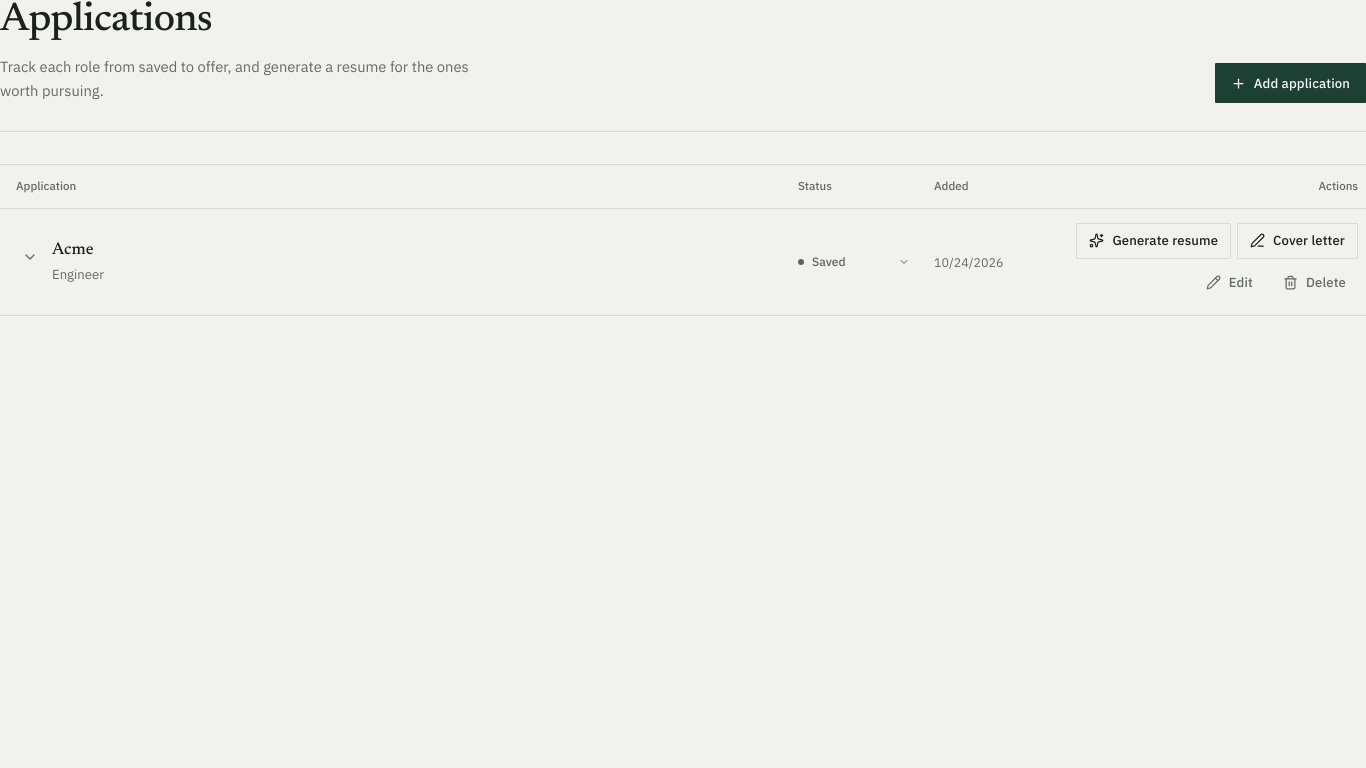
Scenario: ApplicationsPage › removes the description when its application is deleted
Expected: the heading "Applications" is shown, 0,1 -> 212,41
Step 1. Click the button named "View description for Engineer at Acme" → [30, 257], box 12,239 -> 48,275
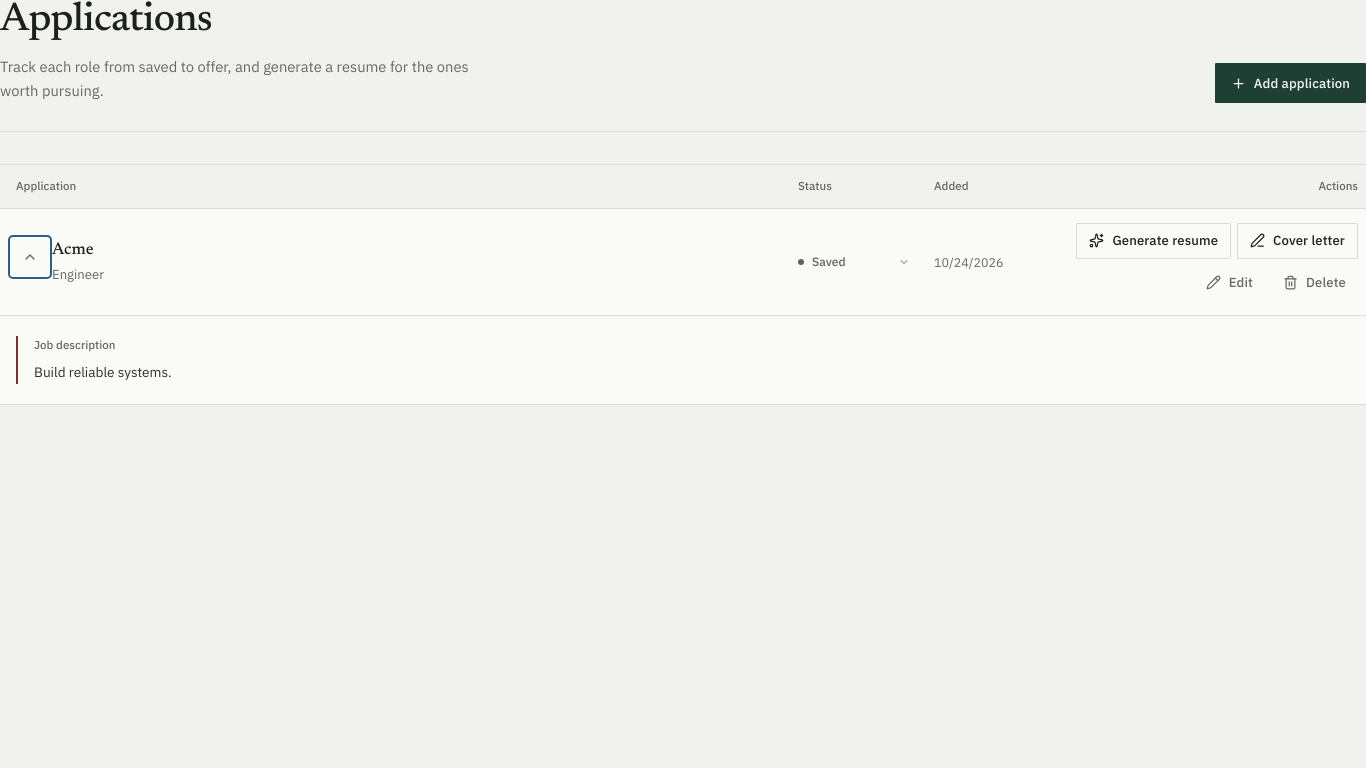
Step 2. Click the button with aria-label "Delete Engineer at Acme" → [1314, 283], box 1271,265 -> 1358,301
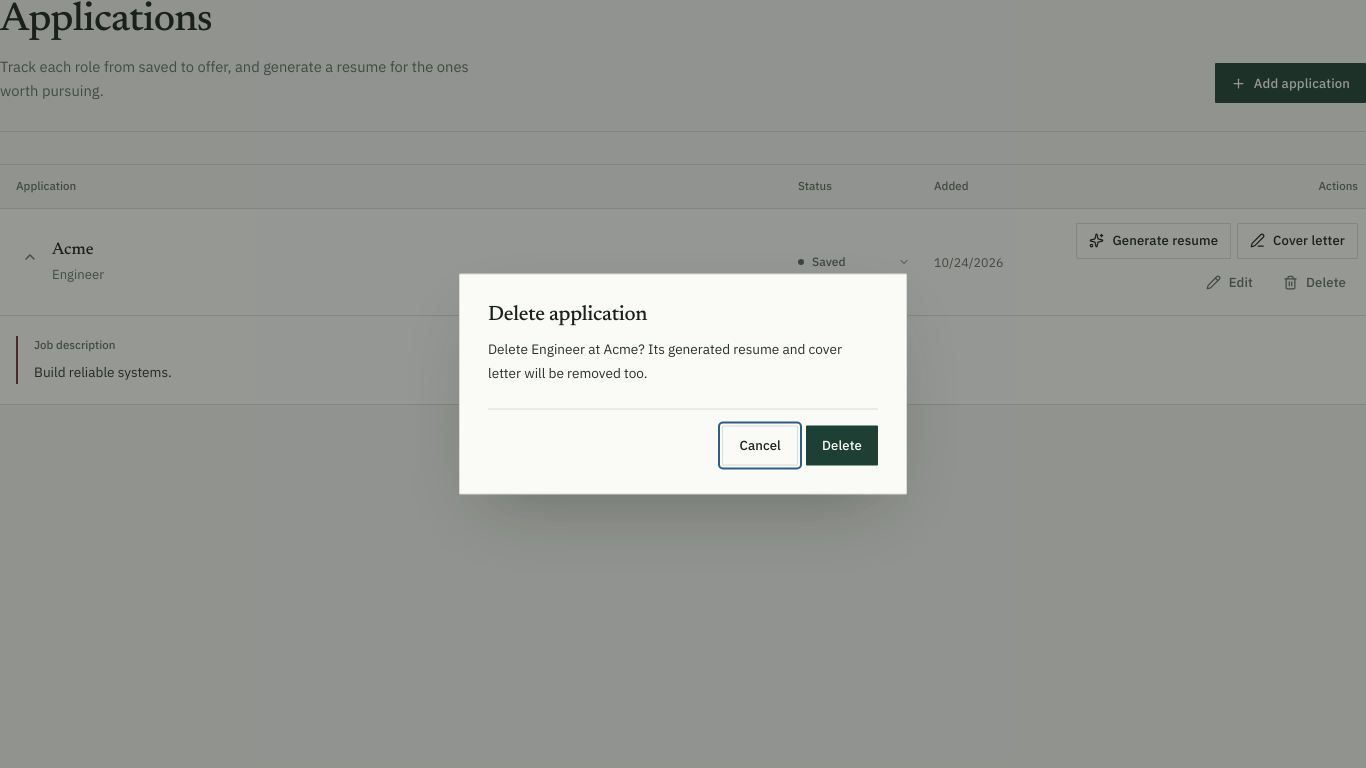
Step 3. Click the button "Delete" → [842, 446], box 806,426 -> 878,466
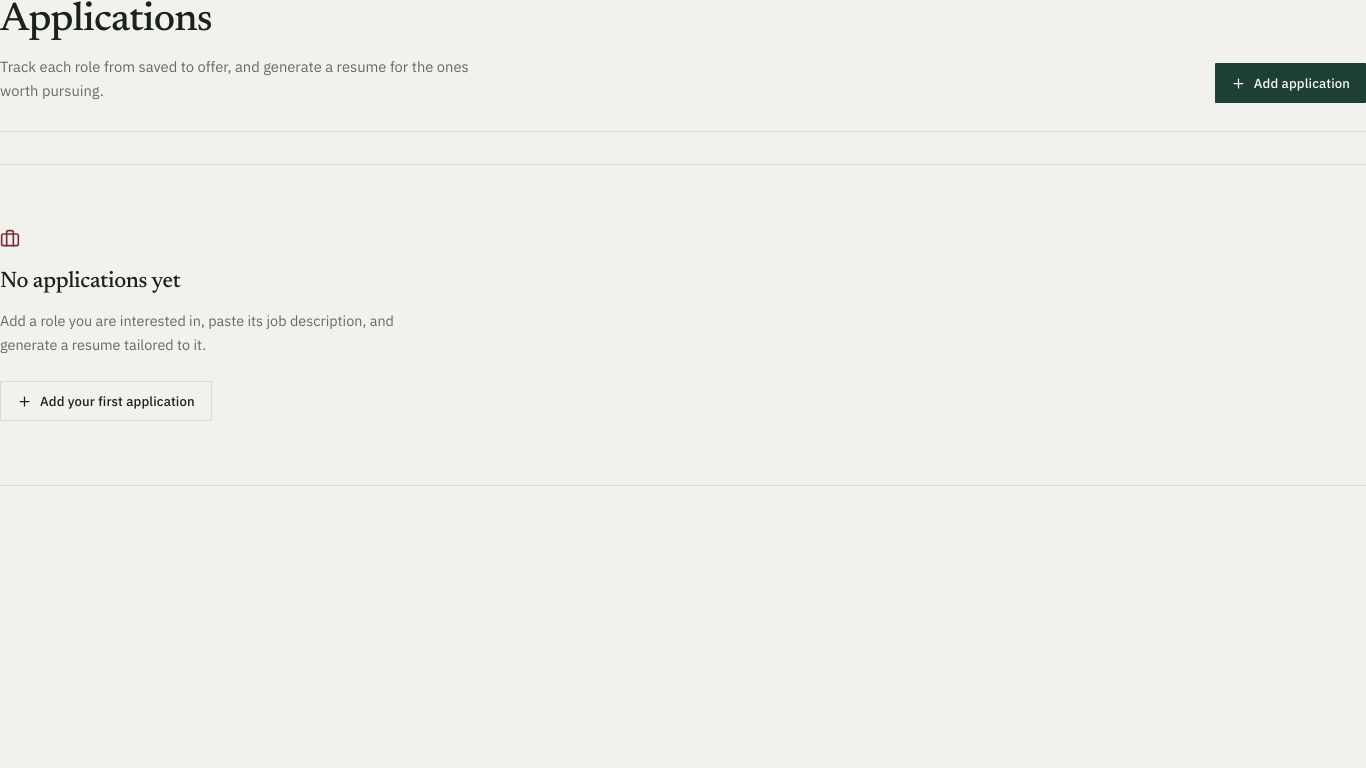
Now the heading "No applications yet" is shown, box 0,271 -> 180,293
Now the text "Build reliable systems." is gone
